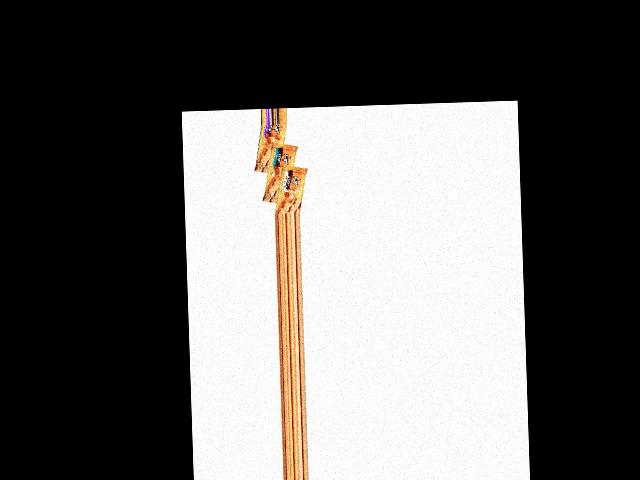chocolate: (255, 123, 289, 177)
